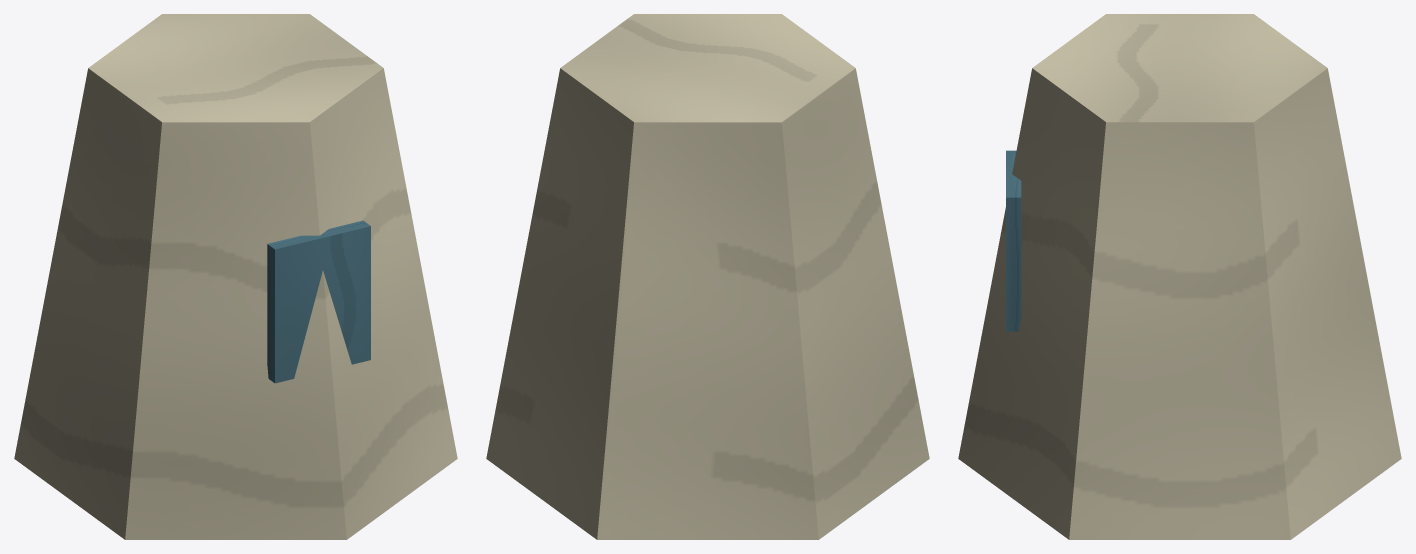
File: loose.glb
3 renders of one model, left to right at view 1: azimuth 30°, elevation 25°; view 2: azimuth 150°, elevation 25°; view 3: azimuth 270°, elevation 25°, orthographic.
Parts seen in each view (by area): view 1: loose_solid; view 2: loose_solid; view 3: loose_solid.
Boxes of the visible parts, x1=… form: loose_solid: x1=14, y1=14, x2=457, y2=539; loose_solid: x1=486, y1=14, x2=929, y2=539; loose_solid: x1=958, y1=14, x2=1401, y2=539.
Bounding box in the file's own units: 0.6235 × 0.7 × 0.72.
2 materials, 2 textured.
